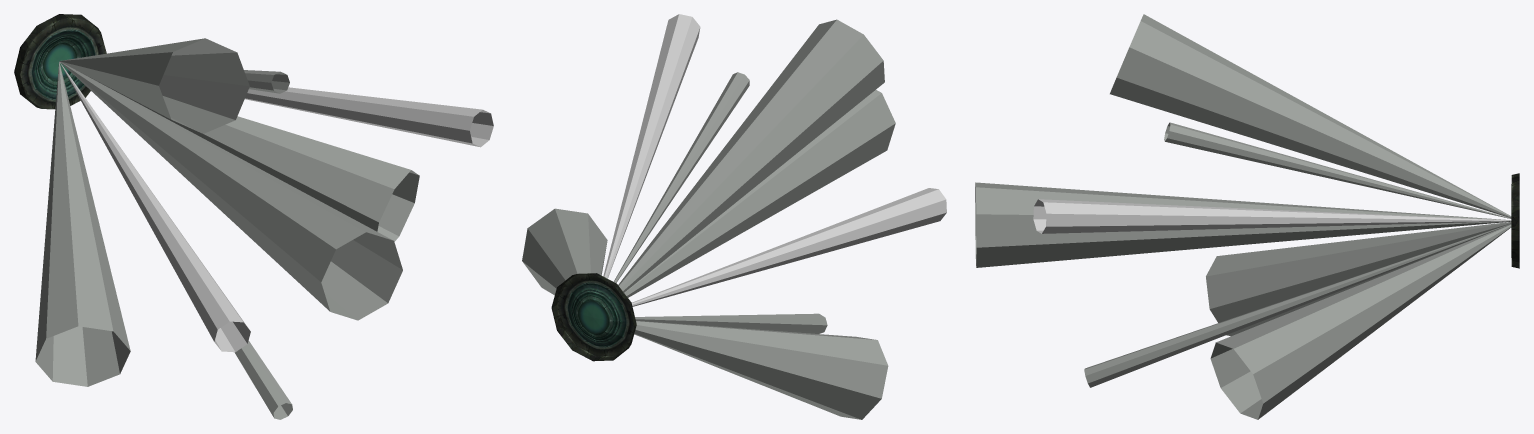
The model's file is juqing_fuben_254_yuansufazhen_02.obj.
The picture shows the model from 3 angles, left to right: view 1: azimuth 30°, elevation 25°; view 2: azimuth 150°, elevation 25°; view 3: azimuth 270°, elevation 25°; orthographic projection. The views are drawn at different scales.
Parts seen in each view (by area): view 1: Cylinder10, Cylinder08, Cylinder06, Cylinder12, Cylinder05, Cylinder07, juqing_fuben_254_yuansufazhen_02, Cylinder09, Cylinder11; view 2: Cylinder12, Cylinder08, Cylinder10, Cylinder07, juqing_fuben_254_yuansufazhen_02, Cylinder05, Cylinder06, Cylinder11, Cylinder09; view 3: Cylinder12, Cylinder06, Cylinder10, Cylinder08, Cylinder05, Cylinder09, Cylinder11, juqing_fuben_254_yuansufazhen_02.
Part boxes in pixels (x1,y1,x2,y2): Cylinder10: [60, 62, 402, 320]; Cylinder08: [35, 62, 130, 386]; Cylinder06: [76, 70, 419, 241]; Cylinder12: [59, 38, 249, 133]; Cylinder05: [245, 87, 493, 147]; Cylinder07: [59, 62, 250, 352]; juqing_fuben_254_yuansufazhen_02: [14, 14, 106, 109]; Cylinder09: [234, 340, 292, 419]; Cylinder11: [244, 70, 289, 93]; Cylinder12: [618, 19, 884, 292]; Cylinder08: [634, 321, 888, 419]; Cylinder10: [624, 90, 895, 297]; Cylinder07: [631, 188, 946, 306]; juqing_fuben_254_yuansufazhen_02: [551, 273, 636, 361]; Cylinder05: [603, 14, 700, 278]; Cylinder06: [522, 208, 607, 295]; Cylinder11: [613, 72, 749, 282]; Cylinder09: [635, 313, 827, 333]; Cylinder12: [1110, 14, 1511, 217]; Cylinder06: [1210, 224, 1511, 419]; Cylinder10: [975, 182, 1510, 267]; Cylinder08: [1206, 222, 1511, 336]; Cylinder05: [1033, 199, 1511, 233]; Cylinder09: [1084, 224, 1510, 387]; Cylinder11: [1164, 122, 1511, 218]; juqing_fuben_254_yuansufazhen_02: [1511, 173, 1519, 268].
Size of the model in its own units: 348 by 324 by 462.
